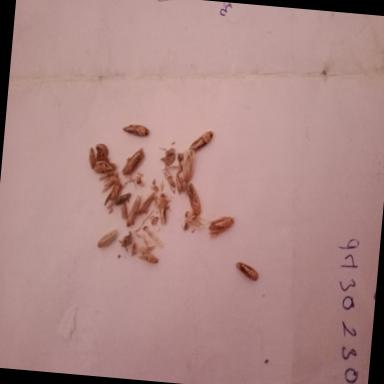pbw: (122, 146, 146, 178), (207, 214, 236, 239), (185, 182, 203, 216), (190, 129, 214, 153), (234, 260, 260, 282), (104, 180, 123, 210), (98, 170, 120, 192), (182, 148, 196, 182), (97, 228, 118, 250), (137, 191, 155, 216), (126, 194, 139, 228), (184, 212, 206, 230), (156, 192, 168, 224), (122, 123, 149, 137), (95, 161, 118, 175), (138, 249, 158, 264), (116, 190, 132, 206), (87, 147, 97, 170), (174, 172, 184, 195), (164, 172, 176, 188), (120, 202, 128, 220)
